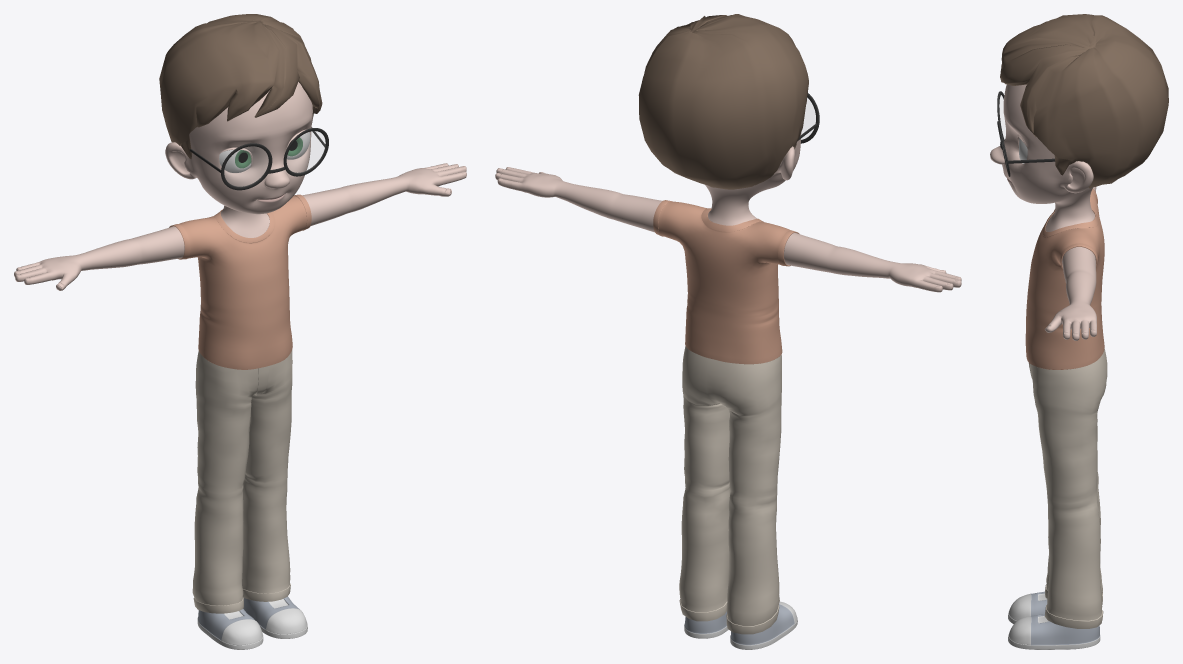
File: kid.fbx
The picture shows the model from 3 angles, left to right: view 1: azimuth 30°, elevation 25°; view 2: azimuth 150°, elevation 25°; view 3: azimuth 270°, elevation 25°; orthographic projection. The views are drawn at different scales.
Parts seen in each view (by area): view 1: pants_GEO, shirt_GEO, kyle_hair_GEO, head_GEO, arms_GEO, shoe_GEO, glasses_GEO; view 2: pants_GEO, kyle_hair_GEO, shirt_GEO, arms_GEO, head_GEO, shoe_GEO; view 3: kyle_hair_GEO, pants_GEO, shirt_GEO, head_GEO, shoe_GEO, arms_GEO, glasses_GEO.
Boxes of the visible parts, left/top/right/bottom form: pants_GEO: left=192, top=350, right=292, bottom=613; shirt_GEO: left=169, top=194, right=311, bottom=369; kyle_hair_GEO: left=159, top=14, right=322, bottom=159; head_GEO: left=165, top=82, right=312, bottom=237; arms_GEO: left=14, top=163, right=466, bottom=290; shoe_GEO: left=197, top=596, right=307, bottom=649; glasses_GEO: left=189, top=127, right=328, bottom=190; pants_GEO: left=679, top=346, right=781, bottom=634; kyle_hair_GEO: left=638, top=14, right=808, bottom=189; shirt_GEO: left=653, top=200, right=799, bottom=364; arms_GEO: left=495, top=167, right=961, bottom=292; head_GEO: left=705, top=133, right=801, bottom=225; shoe_GEO: left=684, top=601, right=797, bottom=649; kyle_hair_GEO: left=1000, top=14, right=1168, bottom=188; pants_GEO: left=1028, top=348, right=1107, bottom=628; shirt_GEO: left=1025, top=188, right=1104, bottom=369; head_GEO: left=990, top=84, right=1094, bottom=231; shoe_GEO: left=1008, top=591, right=1100, bottom=649; arms_GEO: left=1045, top=187, right=1096, bottom=340; glasses_GEO: left=997, top=91, right=1055, bottom=176.
Bounding box in the file's own units: 120 × 150 × 40.41.
